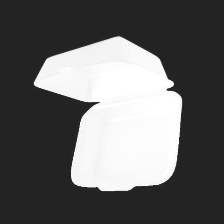foam_box: (29, 31, 188, 200)
